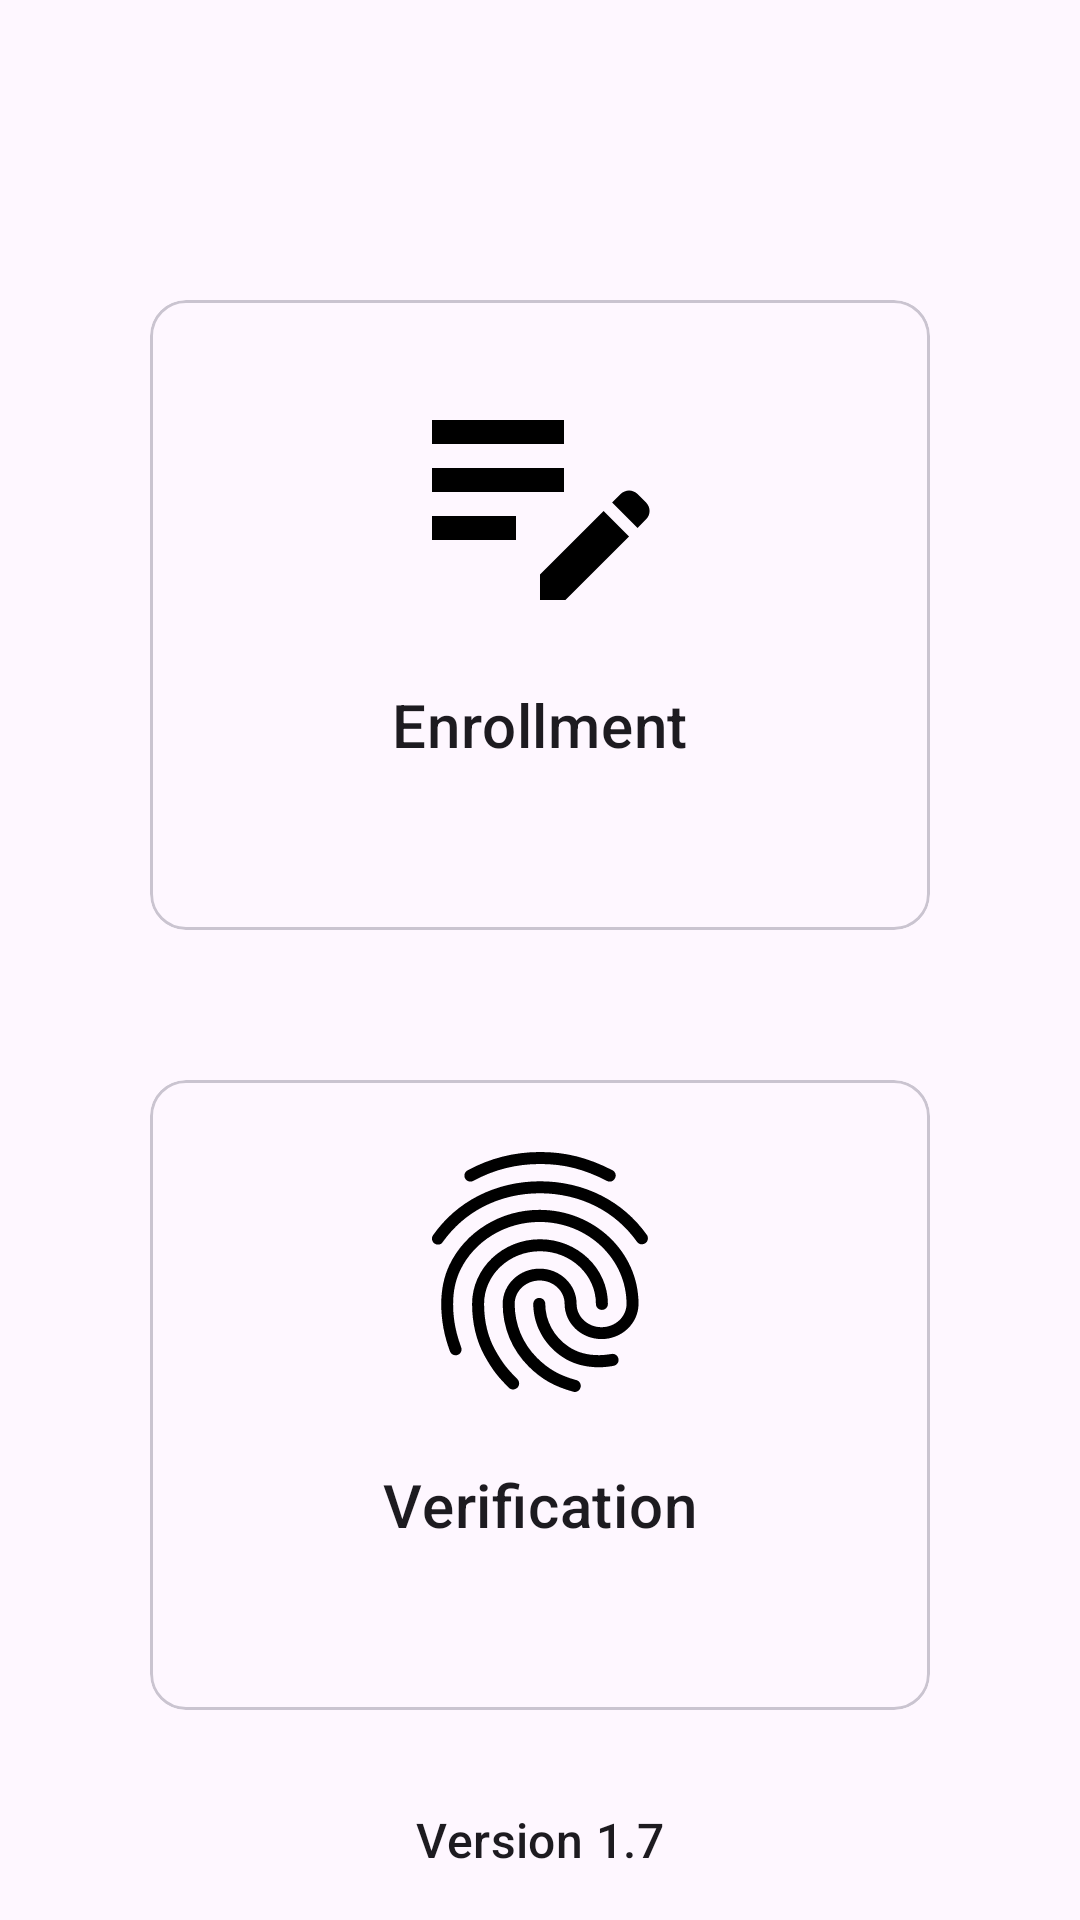

Point at icon controls on the screen. Image size 1080x1920, points as (x,y).
fingerprint: (540,1272)
